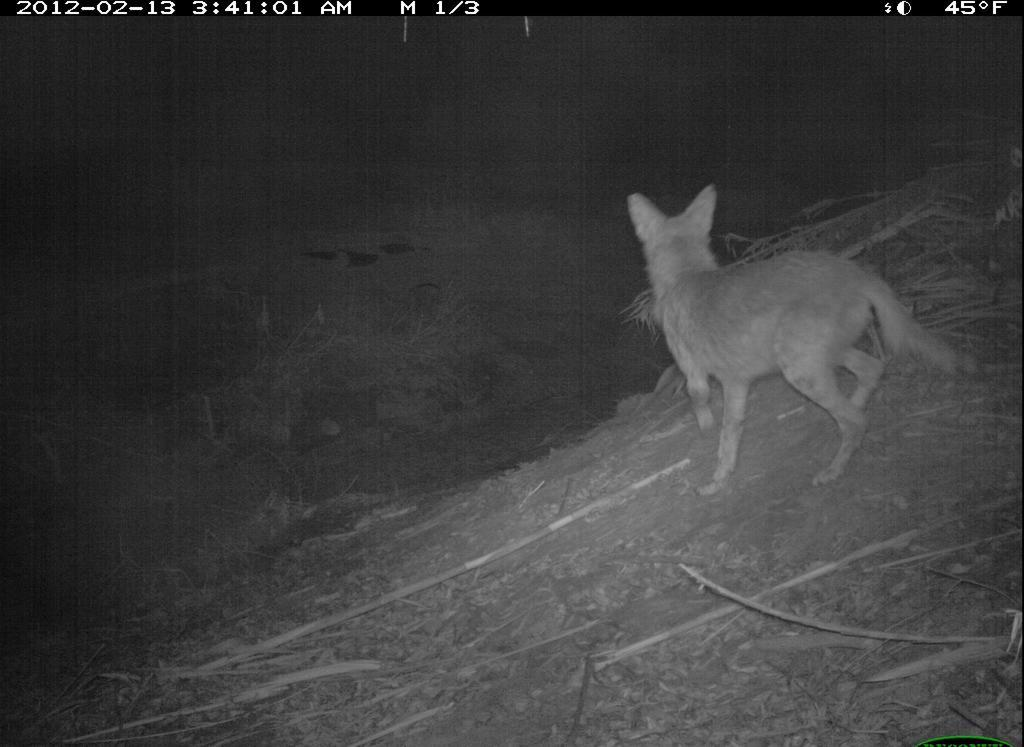coyote: (609, 164, 999, 515)
